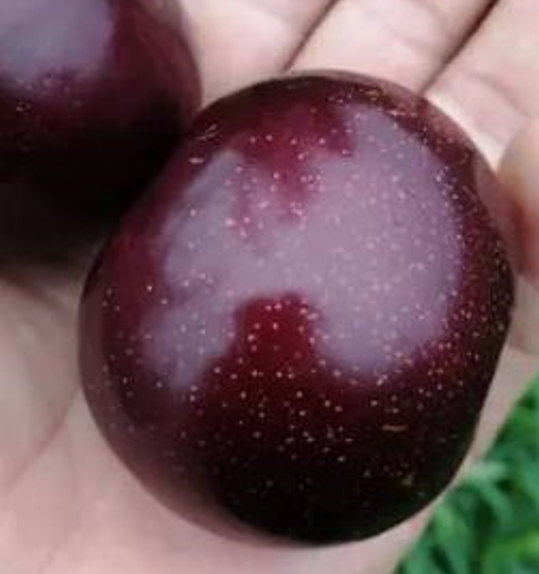plum_A: (77, 69, 515, 549)
